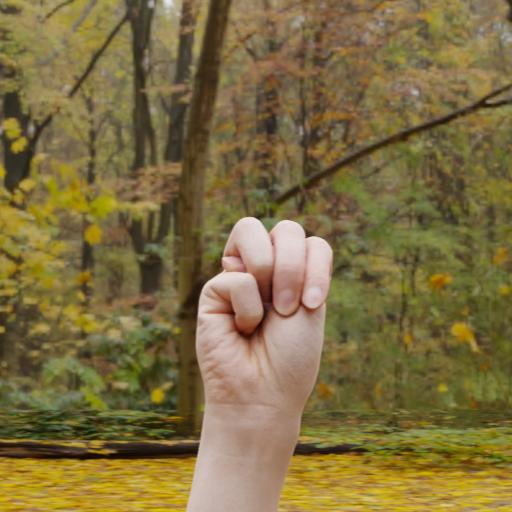M: (190, 208, 344, 440)
